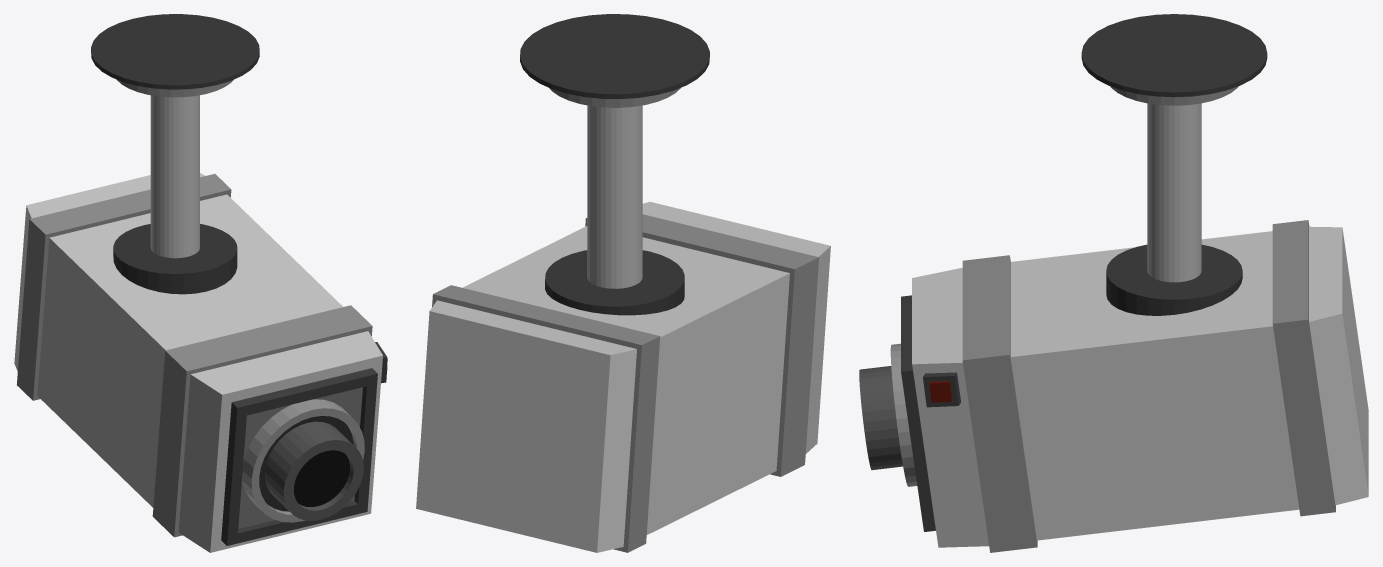
Rendered from Ceiling Security Camera.fbx.
The picture shows the model from 3 angles, left to right: view 1: azimuth 30°, elevation 25°; view 2: azimuth 150°, elevation 25°; view 3: azimuth 270°, elevation 25°; orthographic projection. The views are drawn at different scales.
Parts seen in each view (by area): view 1: Ceiling Security Camera; view 2: Ceiling Security Camera; view 3: Ceiling Security Camera.
Boxes of the visible parts, box(x1,y1,x2,y2) form: Ceiling Security Camera: box(14, 14, 387, 552); Ceiling Security Camera: box(416, 14, 830, 552); Ceiling Security Camera: box(859, 14, 1368, 552).
Bounding box in the file's own units: 18.41 × 37.91 × 39.16.
2 materials, 2 textured.
